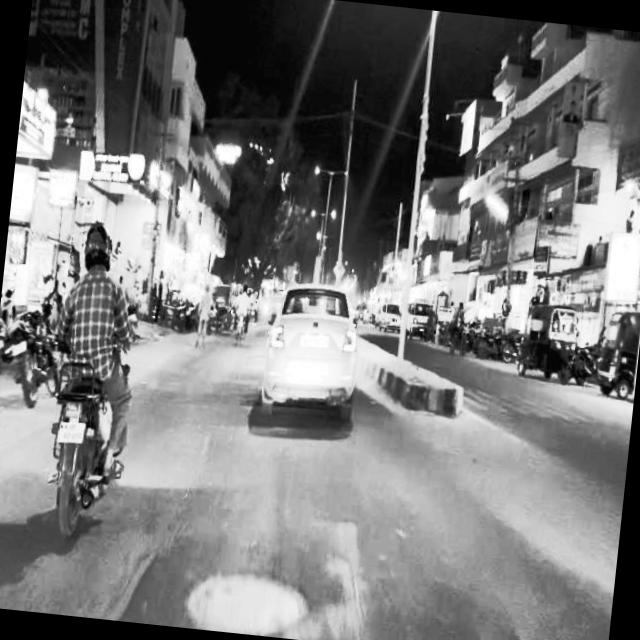Pothole: (183, 558, 314, 640)
